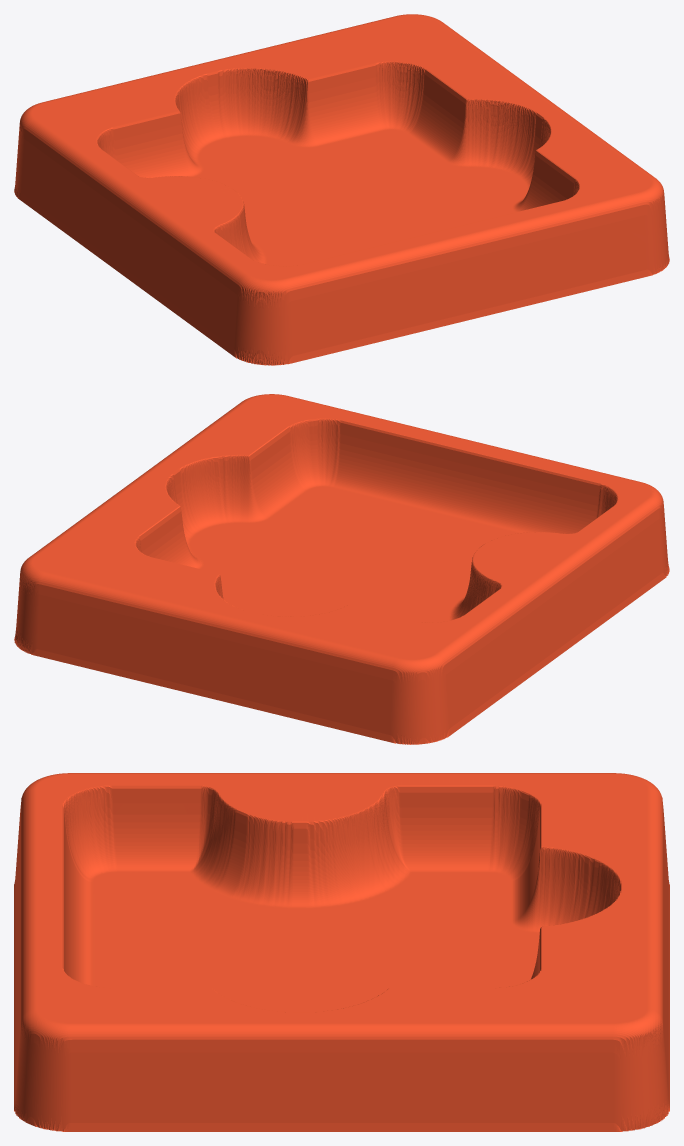
The model's file is mold.glb.
3 views of the same model, one above another, from view 1: azimuth 30°, elevation 25°; view 2: azimuth 150°, elevation 25°; view 3: azimuth 270°, elevation 25° (orthographic). The views are drawn at different scales.
Parts seen in each view (by area): view 1: geometry_0; view 2: geometry_0; view 3: geometry_0.
Part boxes in pixels (box(x1,y1,x2,y2)): geometry_0: box(14, 14, 669, 365); geometry_0: box(14, 394, 669, 744); geometry_0: box(14, 773, 669, 1131).
Size of the model in its own units: 0.1014 by 0.0175 by 0.105.
